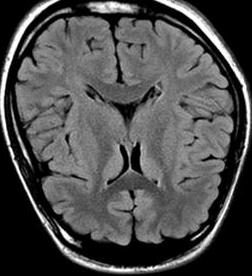Normal_Brain: (1, 1, 252, 276)
